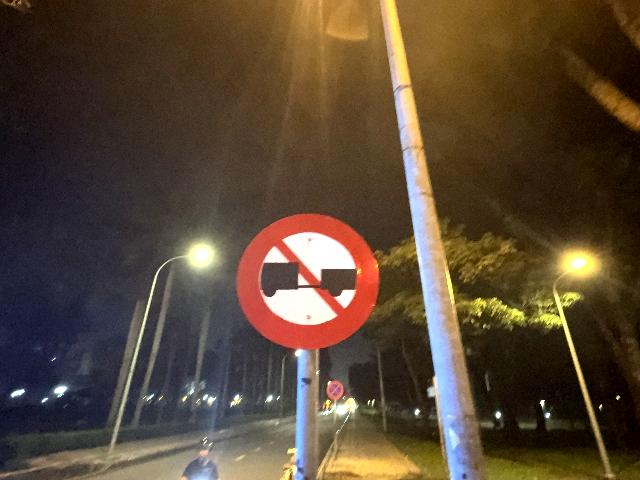cam-xe-somi-romooc: (237, 212, 380, 350)
